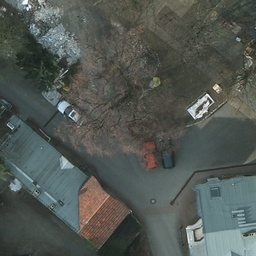car: (57, 100, 90, 127), (142, 138, 158, 171), (161, 138, 176, 168)
